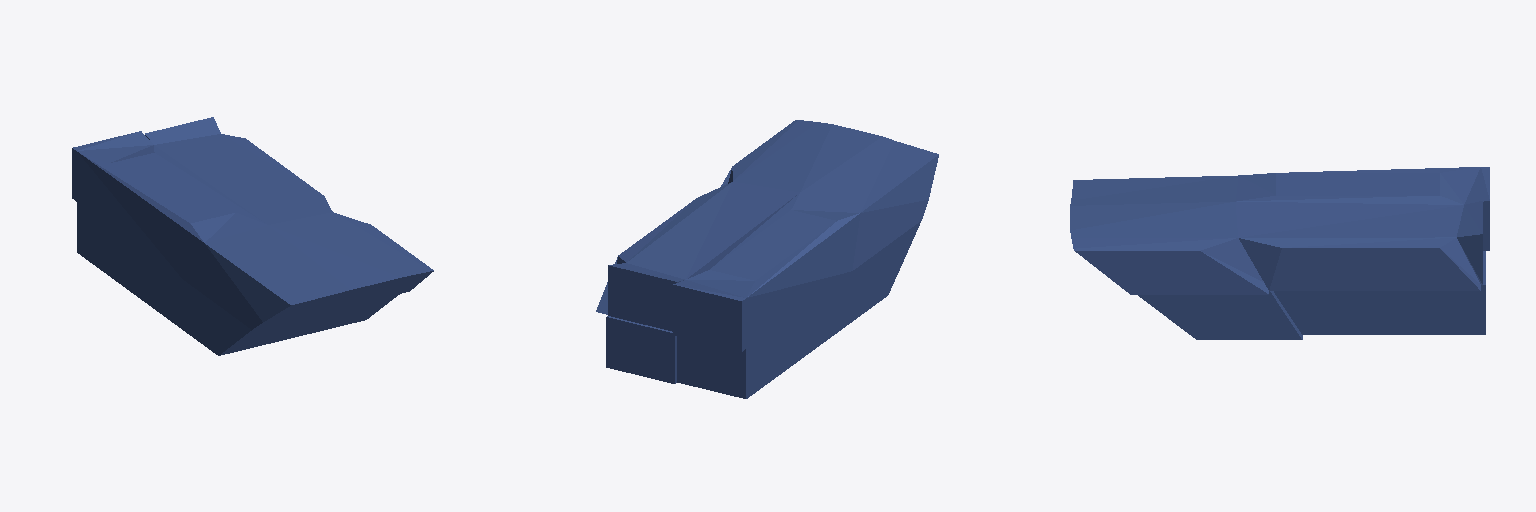
The model's file is pillar_10.obj.
The picture shows the model from 3 angles: view 1: azimuth 30°, elevation 25°; view 2: azimuth 150°, elevation 25°; view 3: azimuth 270°, elevation 25°; orthographic projection.
Visible parts, largest first — view 1: Cube.026; view 2: Cube.026; view 3: Cube.026.
Part boxes in pixels (left/top/right/bottom): Cube.026: left=72, top=117, right=433, bottom=355; Cube.026: left=596, top=120, right=938, bottom=398; Cube.026: left=1070, top=167, right=1489, bottom=339.
Bounding box in the file's own units: 0.7515 × 0.4608 × 1.73.